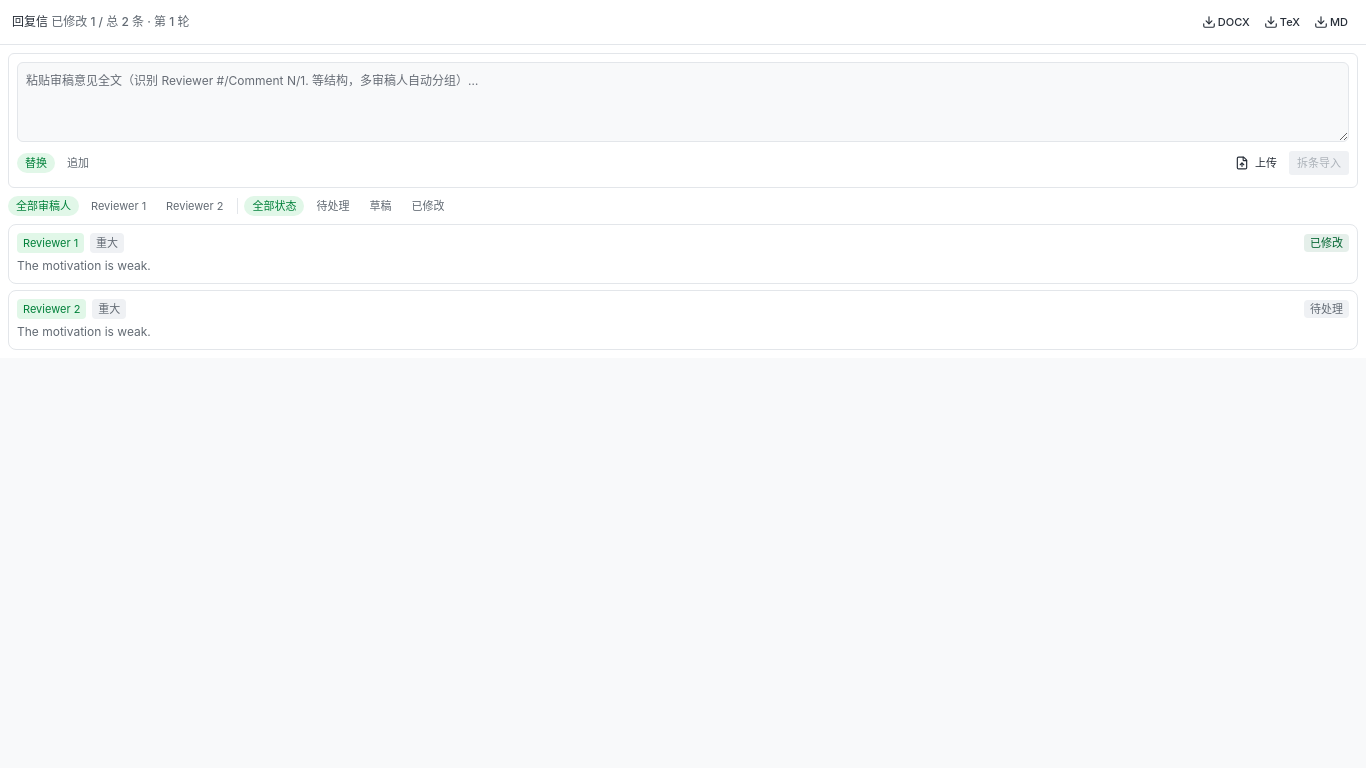
Test case: RebuttalPanel › 加载后渲染进度与条目列表，点击条目进入详情
Expected: the element with test id "rebuttal-progress" shows "已修改 1 / 总 2 条", [12, 14, 190, 29]
Click the button "Reviewer 1 重大 已修改 The motivation is weak." at (51, 243), box [8, 224, 1358, 284]
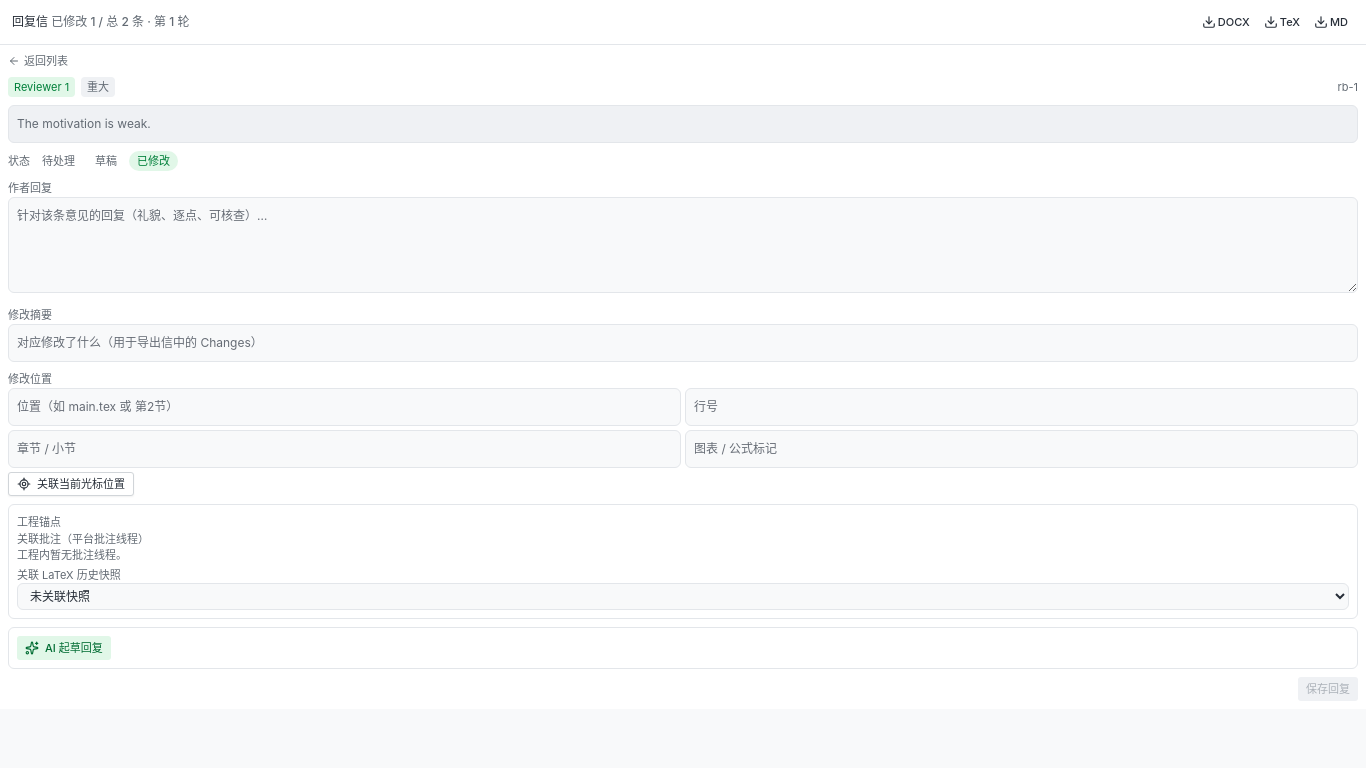
Expected: the element with test id "rebuttal-detail" is shown
Expected: the text box with test id "rebuttal-response-input" is shown, [8, 197, 1358, 293]
